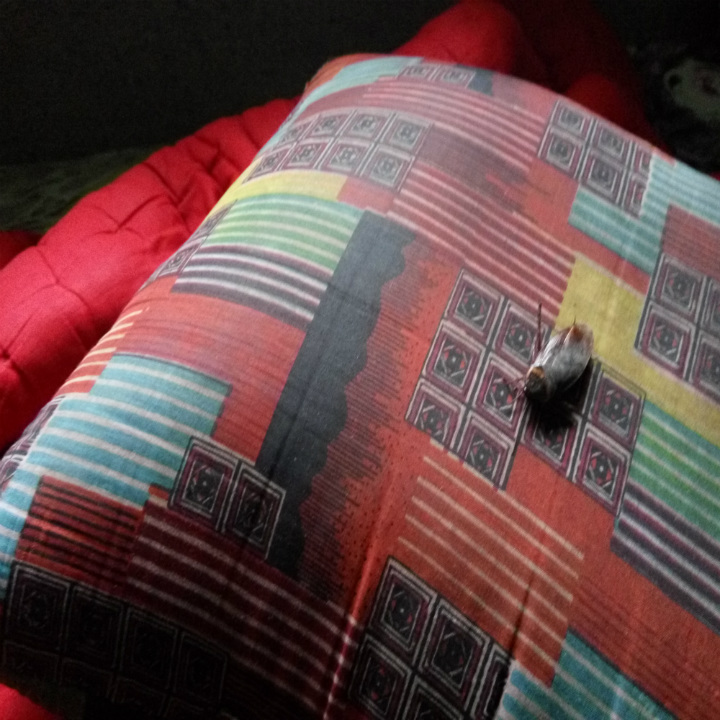cockroach: (479, 276, 634, 430)
